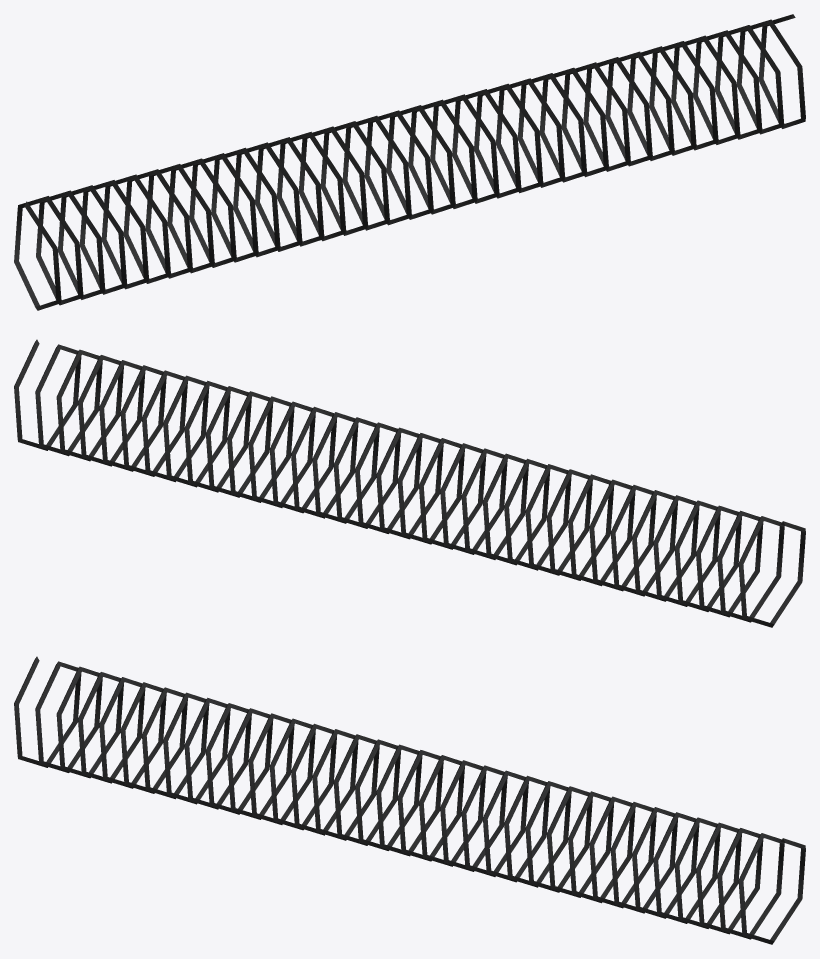
The model's file is Action_Spring.dae.
3 views of the same model, one above another, from view 1: azimuth 30°, elevation 25°; view 2: azimuth 150°, elevation 25°; view 3: azimuth 330°, elevation 25° (orthographic). The views are drawn at different scales.
Visible parts, largest first — view 1: Action_Spring; view 2: Action_Spring; view 3: Action_Spring.
Part boxes in pixels (x1=…): Action_Spring: x1=14, y1=14, x2=805, y2=310; Action_Spring: x1=14, y1=339, x2=805, y2=627; Action_Spring: x1=14, y1=656, x2=805, y2=944.
Bounding box in the file's own units: 0.1678 × 0.0202 × 0.0234.
1 material, 1 textured.
